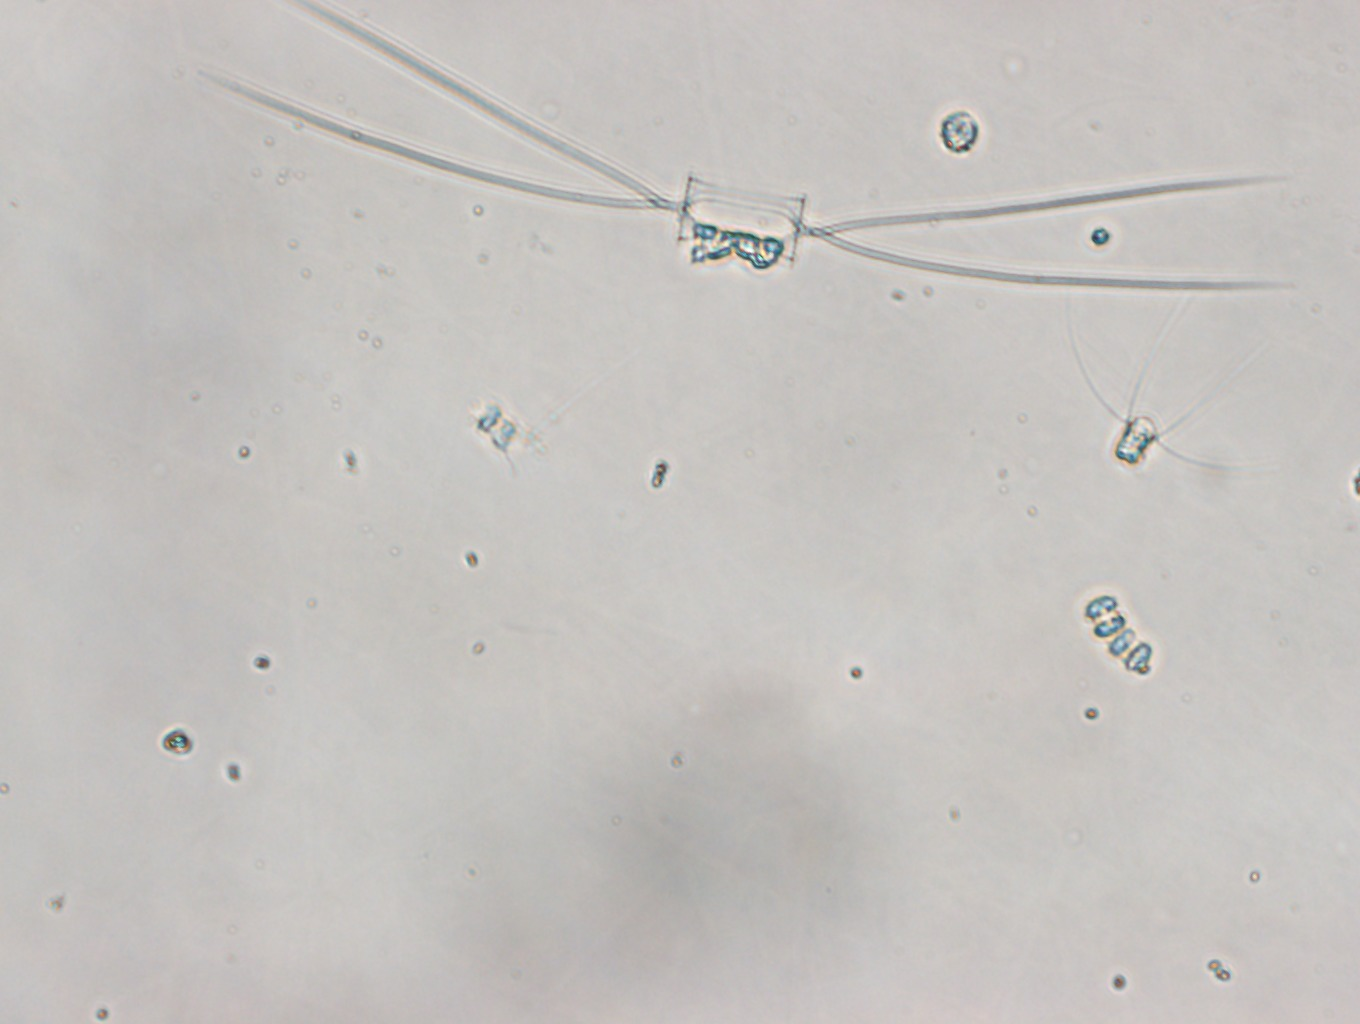chaetoceros: (192, 1, 1295, 294), (1064, 281, 1295, 473)
